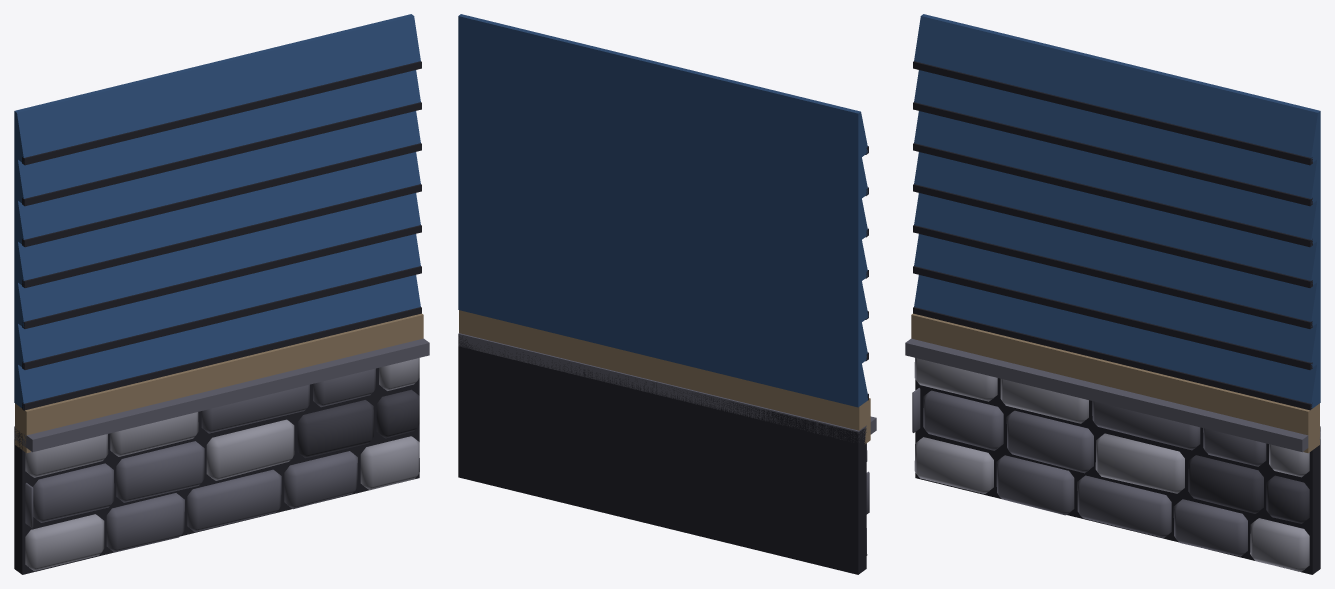
File: kit_clap_low_a.glb
The picture shows the model from 3 angles, left to right: view 1: azimuth 30°, elevation 25°; view 2: azimuth 150°, elevation 25°; view 3: azimuth 330°, elevation 25°; orthographic projection.
Parts seen in each view (by area): view 1: kit_clap_low_a; view 2: kit_clap_low_a; view 3: kit_clap_low_a.
Part boxes in pixels (bbox=[...]): kit_clap_low_a: bbox=[14, 14, 429, 574]; kit_clap_low_a: bbox=[458, 14, 876, 574]; kit_clap_low_a: bbox=[905, 14, 1320, 574].
Size of the model in its own units: 1 by 1.1 by 0.08.
